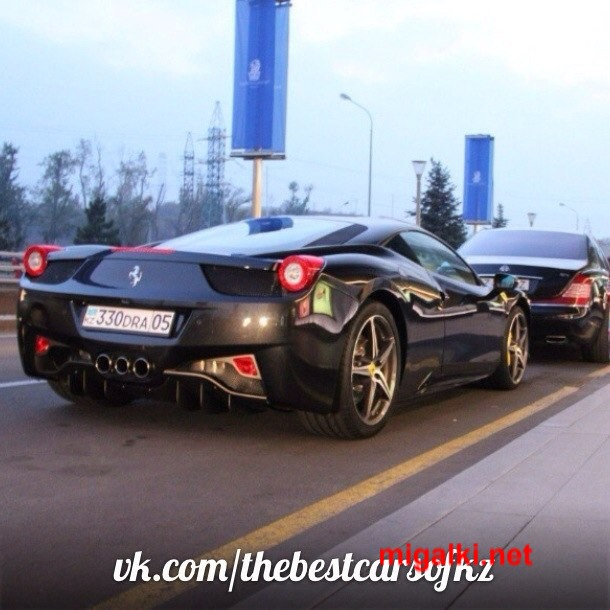license_plate: (78, 302, 178, 337)
